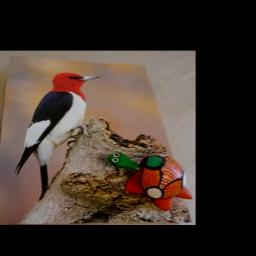Woodpecker: (14, 70, 99, 201)
